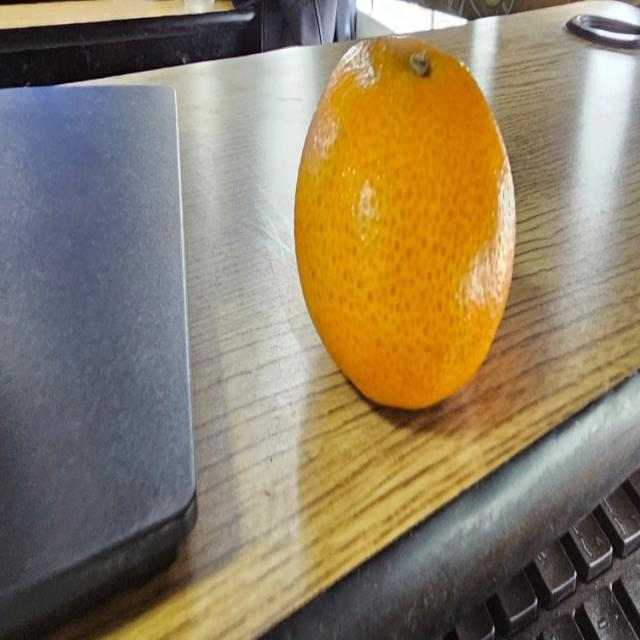Jeruk Mandarin: (290, 28, 520, 424)
